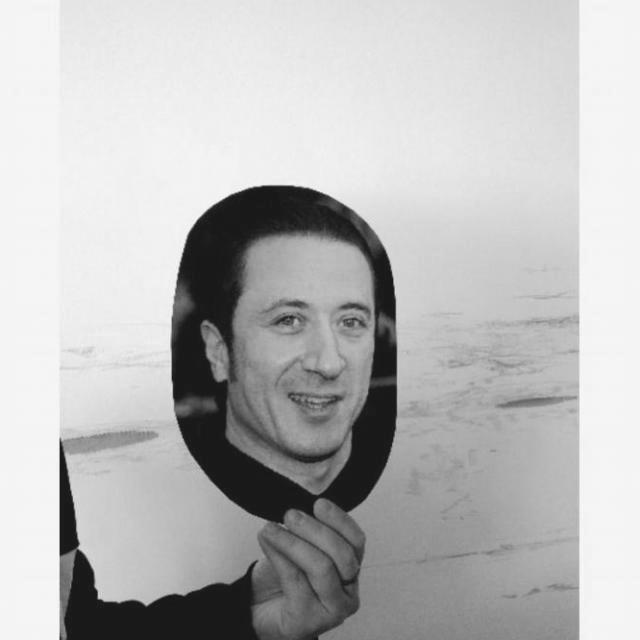fake: (160, 174, 404, 532)
